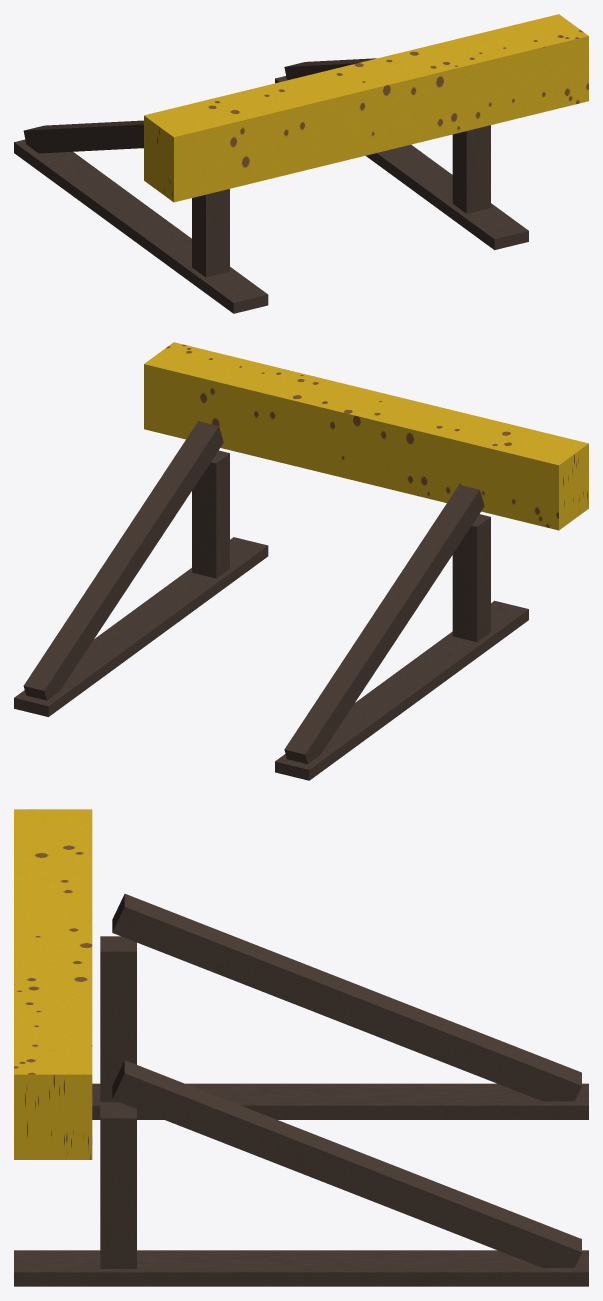
File: rail_buffer_stop_v2_quest.glb
3 renders of one model, top to bottom at view 1: azimuth 30°, elevation 25°; view 2: azimuth 150°, elevation 25°; view 3: azimuth 270°, elevation 25°, orthographic. The views are drawn at different scales.
Parts seen in each view (by area): view 1: rail_buffer_stop_v2_quest; view 2: rail_buffer_stop_v2_quest; view 3: rail_buffer_stop_v2_quest.
Part boxes in pixels (x1,y1,x2,y2): rail_buffer_stop_v2_quest: [14, 14, 588, 313]; rail_buffer_stop_v2_quest: [14, 342, 588, 780]; rail_buffer_stop_v2_quest: [14, 809, 588, 1286].
Size of what is drawn, in the model's own units: 2.4 by 1.06 by 2.2.
Materials: 1 (1 with a texture image).
